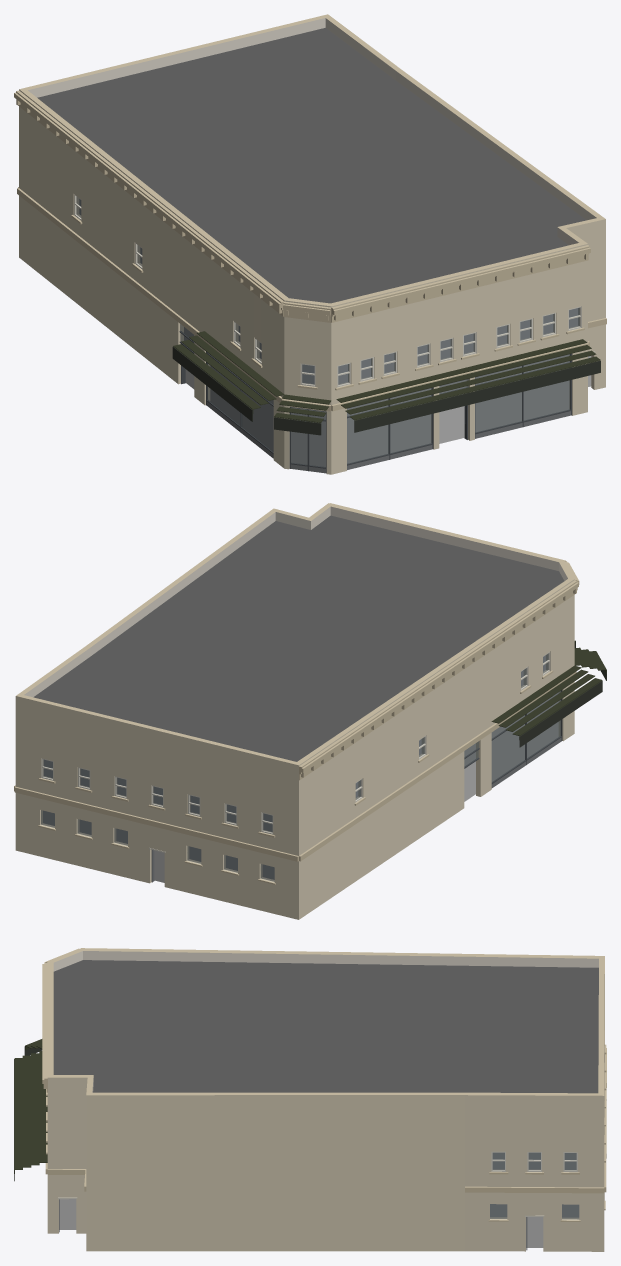
The model's file is exterior.glb.
3 views of the same model, one above another, from view 1: azimuth 30°, elevation 25°; view 2: azimuth 150°, elevation 25°; view 3: azimuth 270°, elevation 25° (orthographic). The views are drawn at different scales.
Parts seen in each view (by area): view 1: roof, shell, trim, glazing, shadow-proxy, awning-spans-4, storefront, awning-valance-4, awning-spans-2, frames, awning-valance-2, awning-spans-3 (+1 smaller); view 2: shell, roof, trim, glazing, shadow-proxy, awning-spans-2, frames, awning-valance-2, storefront; view 3: shell, roof, awning-spans-4, trim, shadow-proxy, glazing, frames.
Part boxes in pixels (box(x1,y1,x2,y2)): roof: box(37, 28, 586, 303); shell: box(19, 14, 605, 474); trim: box(14, 90, 606, 411); glazing: box(76, 197, 579, 467); shadow-proxy: box(79, 199, 591, 466); awning-spans-4: box(336, 339, 600, 424); storefront: box(179, 331, 595, 473); awning-valance-4: box(354, 360, 600, 432); awning-spans-2: box(173, 331, 283, 413); frames: box(74, 194, 581, 387); awning-valance-2: box(172, 347, 252, 421); awning-spans-3: box(274, 394, 331, 426); shell: box(15, 503, 574, 919); roof: box(33, 515, 564, 761); trim: box(14, 503, 579, 884); glazing: box(41, 654, 560, 881); shadow-proxy: box(43, 655, 558, 882); awning-spans-2: box(491, 665, 602, 739); frames: box(41, 652, 550, 834); awning-valance-2: box(519, 681, 602, 747); storefront: box(149, 690, 562, 882); shell: box(47, 948, 604, 1251); roof: box(53, 960, 598, 1093); awning-spans-4: box(14, 1051, 47, 1173); trim: box(42, 948, 606, 1221); shadow-proxy: box(59, 1153, 578, 1247); glazing: box(490, 1152, 579, 1219); frames: box(491, 1151, 577, 1172).
Bounding box in the file's own units: 22.16 × 9.92 × 34.16.
